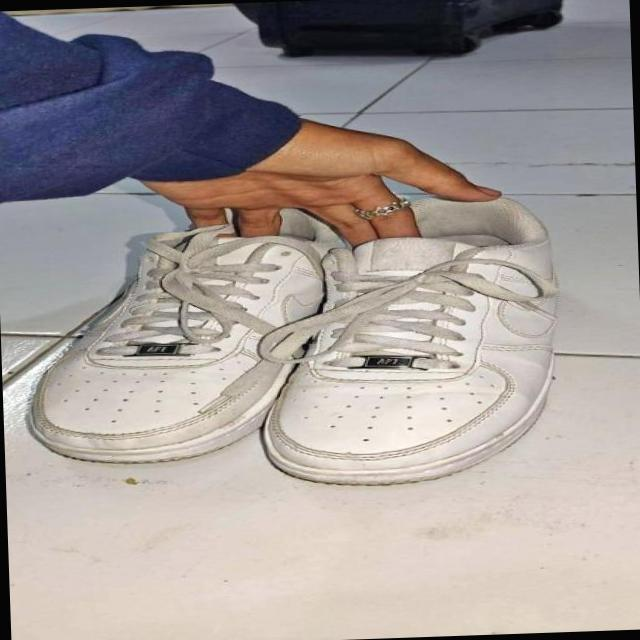nike_fake_airforce: (252, 179, 577, 495), (18, 204, 386, 466)
